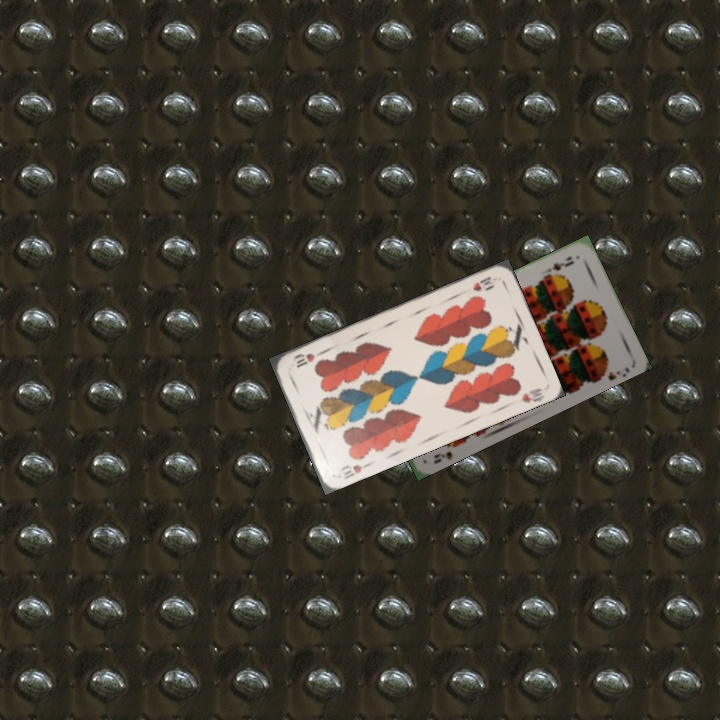H10: (337, 459, 372, 482), (469, 272, 498, 294)
S9: (430, 439, 461, 466), (548, 252, 577, 273)
